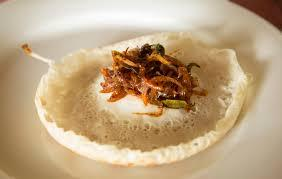Hoppers: (34, 36, 241, 160)
